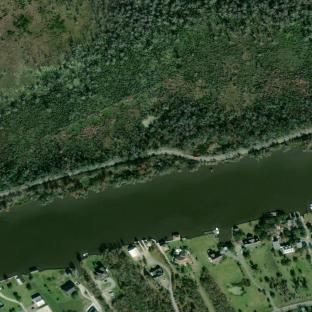Floresta: (8, 95, 309, 184), (0, 156, 204, 212), (106, 0, 312, 48), (103, 248, 174, 312), (200, 267, 235, 312), (174, 274, 208, 312), (257, 216, 291, 240)
